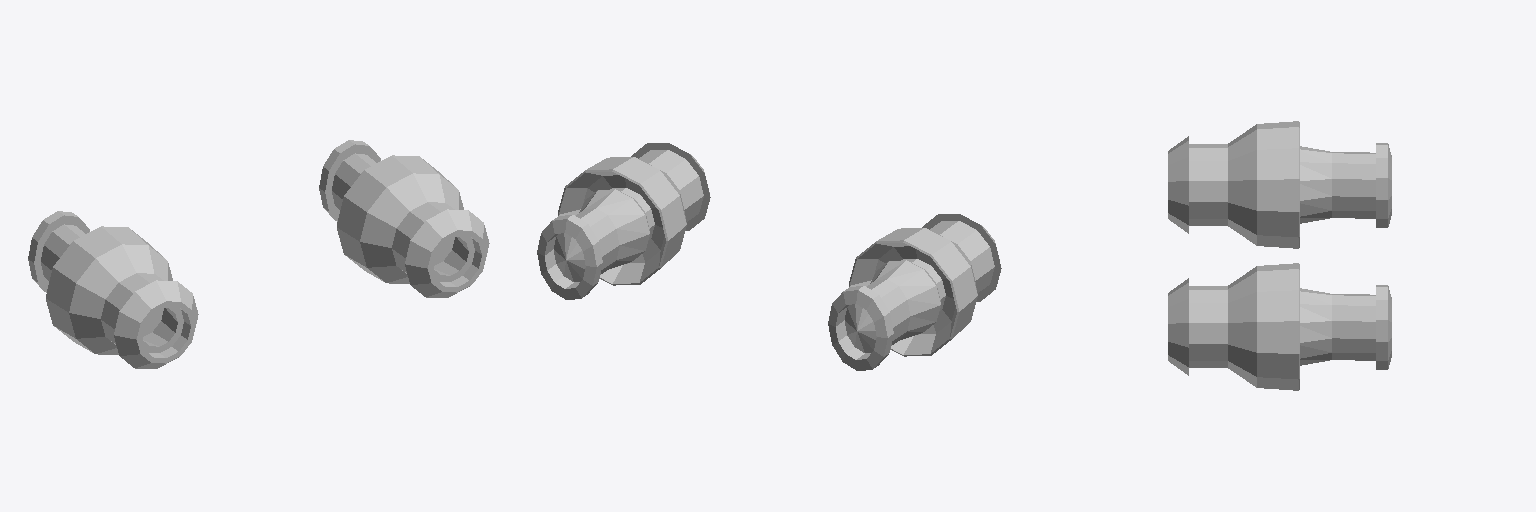
File: MVRockets.obj
The picture shows the model from 3 angles: view 1: azimuth 30°, elevation 25°; view 2: azimuth 150°, elevation 25°; view 3: azimuth 270°, elevation 25°; orthographic projection.
Size of the model in its own units: 20.1 by 5.55 by 9.68.